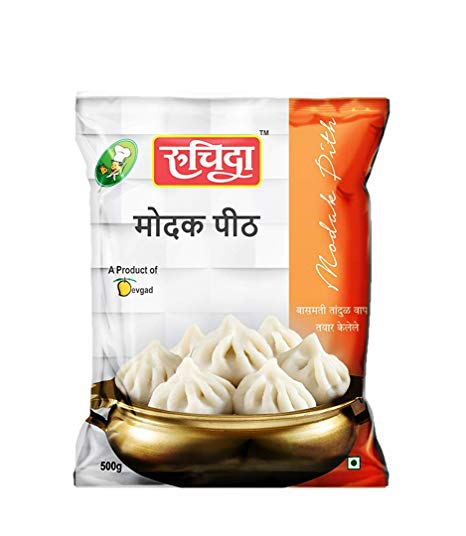modak: (196, 321, 283, 383), (286, 334, 358, 408), (158, 363, 241, 417), (236, 372, 318, 419), (128, 348, 186, 404)
